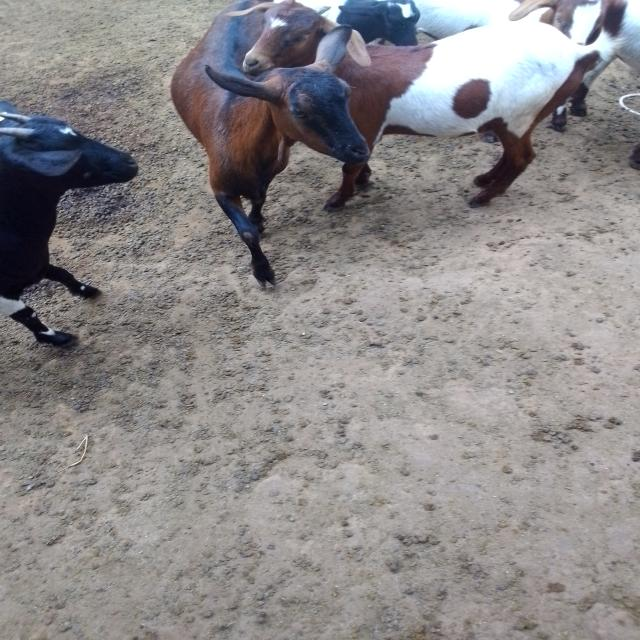goat: (89, 0, 482, 320)
